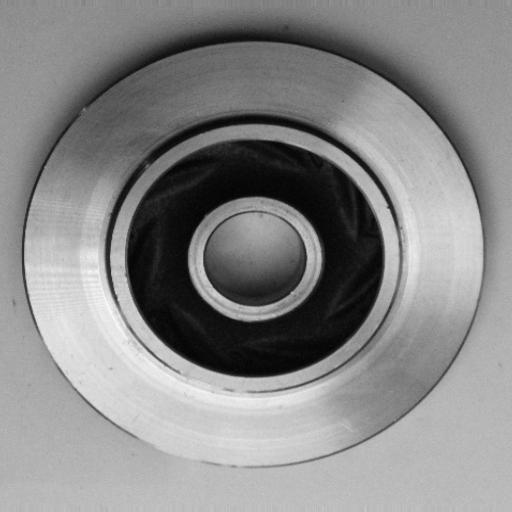scratch: (170, 362, 275, 398)
unpolished_casting: (23, 39, 486, 473)
